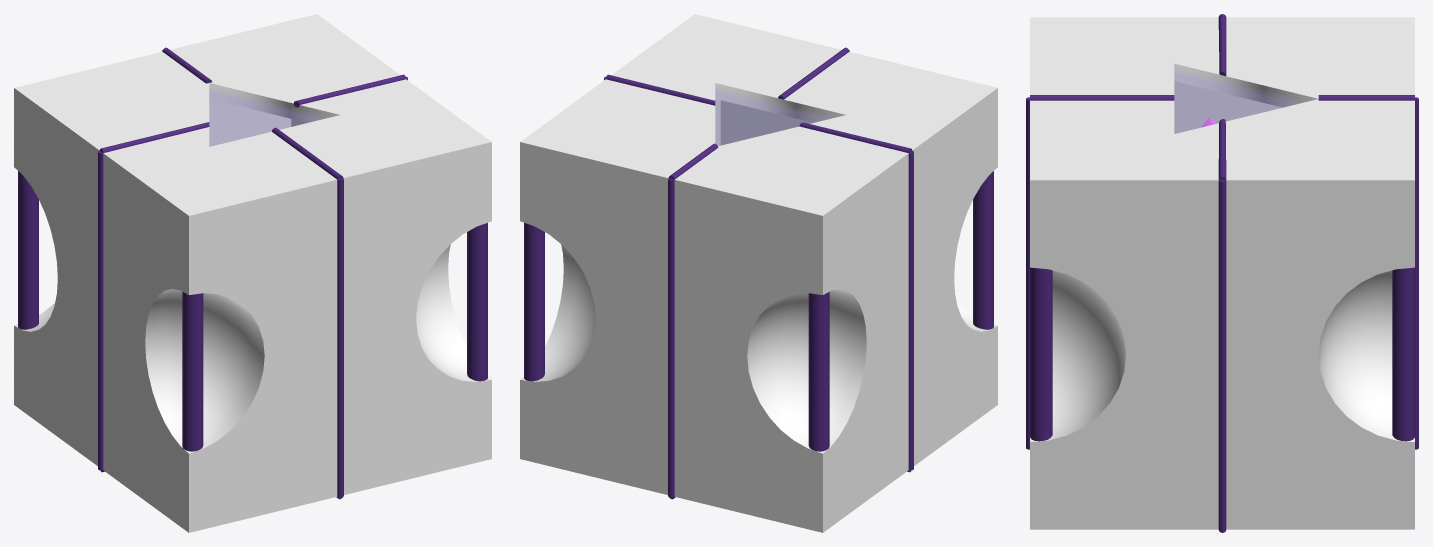
The model's file is Cubo Triangulo.FBX.
3 views of the same model, side by side, from view 1: azimuth 30°, elevation 25°; view 2: azimuth 150°, elevation 25°; view 3: azimuth 270°, elevation 25° (orthographic). The views are drawn at different scales.
Parts seen in each view (by area): view 1: Box004, Cylinder042, Cylinder056, Cylinder040, Cylinder041, Cylinder045, Cylinder044, Cylinder047, Cylinder048; view 2: Box004, Cylinder041, Cylinder039, Cylinder056, Cylinder042, Cylinder046, Cylinder044, Cylinder048, Cylinder047; view 3: Box004, Cylinder039, Cylinder040, Cylinder056, Cylinder043, Cylinder045, Cylinder046, Cylinder049, Cylinder050, Cylinder048, Cylinder047.
Part boxes in pixels (x1,y1,x2,y2): Box004: (14, 14, 491, 532); Cylinder042: (182, 291, 203, 451); Cylinder056: (209, 91, 322, 146); Cylinder040: (467, 223, 487, 381); Cylinder041: (18, 171, 38, 329); Cylinder045: (337, 178, 343, 497); Cylinder044: (98, 150, 103, 470); Cylinder047: (293, 74, 405, 107); Cylinder048: (99, 122, 209, 152); Box004: (520, 14, 997, 532); Cylinder041: (808, 291, 829, 451); Cylinder039: (524, 223, 544, 381); Cylinder056: (715, 91, 828, 145); Cylinder042: (973, 171, 993, 329); Cylinder046: (668, 178, 674, 497); Cylinder044: (908, 150, 913, 470); Cylinder048: (799, 122, 912, 152); Cylinder047: (606, 74, 715, 105); Box004: (1030, 17, 1414, 529); Cylinder039: (1392, 267, 1414, 441); Cylinder040: (1030, 267, 1052, 441); Cylinder056: (1174, 73, 1298, 133); Cylinder043: (1218, 180, 1226, 530); Cylinder045: (1026, 97, 1029, 449); Cylinder046: (1415, 97, 1418, 449); Cylinder049: (1030, 95, 1174, 100); Cylinder050: (1318, 95, 1414, 100); Cylinder048: (1218, 14, 1226, 75); Cylinder047: (1218, 119, 1226, 180).
Size of the model in its own units: 40.16 by 40.16 by 40.16.
19 materials, 17 textured.
